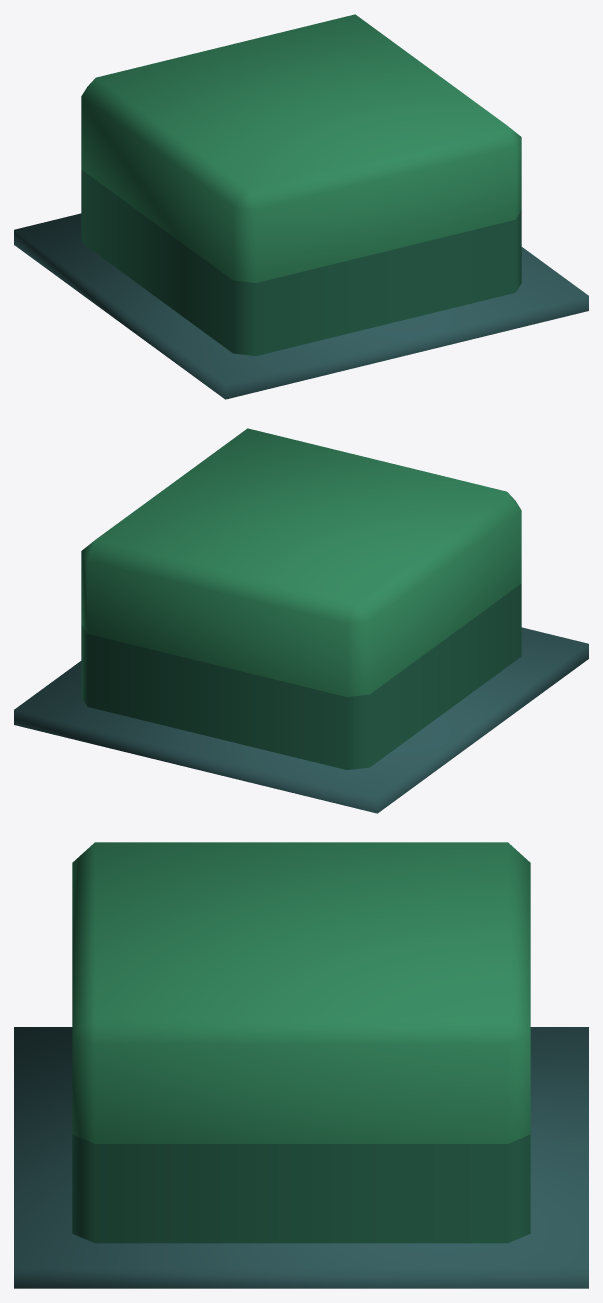
File: RoofAdd_2_B_5.fbx
3 renders of one model, top to bottom at view 1: azimuth 30°, elevation 25°; view 2: azimuth 150°, elevation 25°; view 3: azimuth 270°, elevation 25°, orthographic. The views are drawn at different scales.
Visible parts, largest first — view 1: RoofAdd_2_B_5; view 2: RoofAdd_2_B_5; view 3: RoofAdd_2_B_5.
Part boxes in pixels (x1,y1,x2,y2): RoofAdd_2_B_5: (14, 14, 588, 399); RoofAdd_2_B_5: (14, 428, 588, 813); RoofAdd_2_B_5: (14, 842, 588, 1288).
Size of the model in its own units: 160 by 74.17 by 161.
